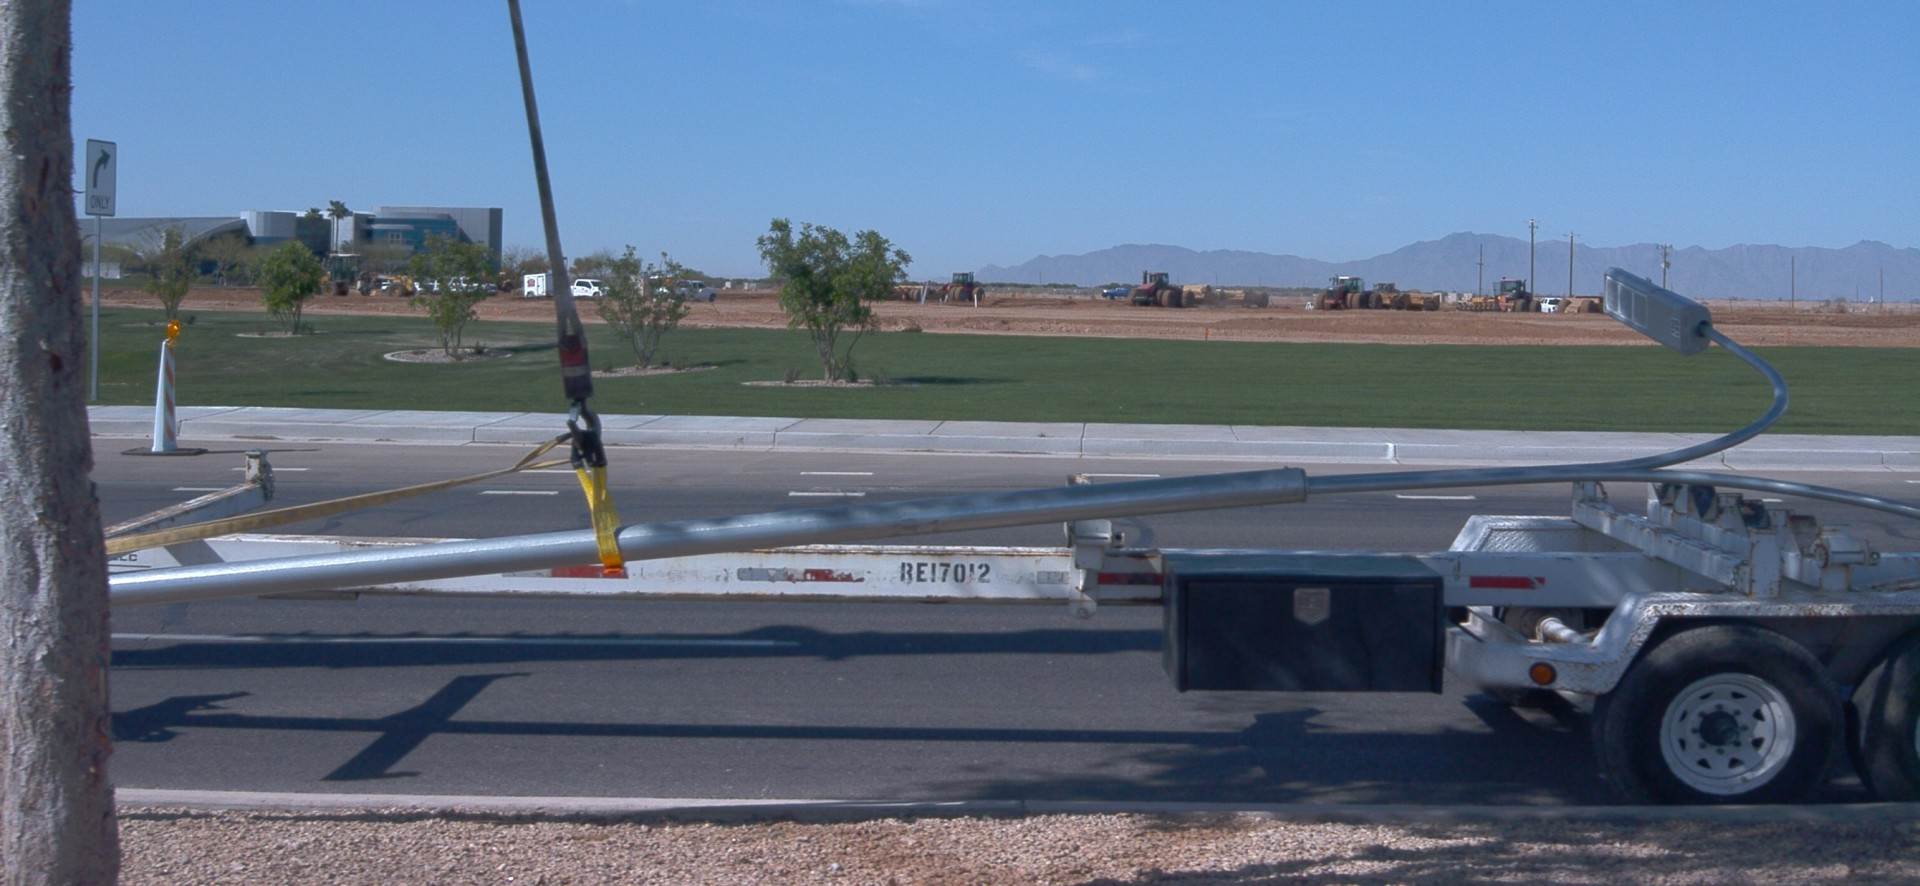TYPE_VEHICLE: (94, 254, 1920, 822), (300, 249, 418, 299), (1316, 272, 1384, 312), (1128, 271, 1196, 310), (1492, 276, 1542, 315), (935, 269, 987, 303), (1366, 280, 1410, 312), (432, 276, 498, 297), (658, 285, 714, 306), (565, 279, 611, 300), (1559, 294, 1604, 315), (524, 272, 557, 299), (470, 271, 514, 291), (397, 274, 434, 294), (1541, 294, 1569, 315), (413, 275, 441, 294), (888, 288, 921, 303), (1102, 289, 1132, 303), (1212, 292, 1222, 296)
